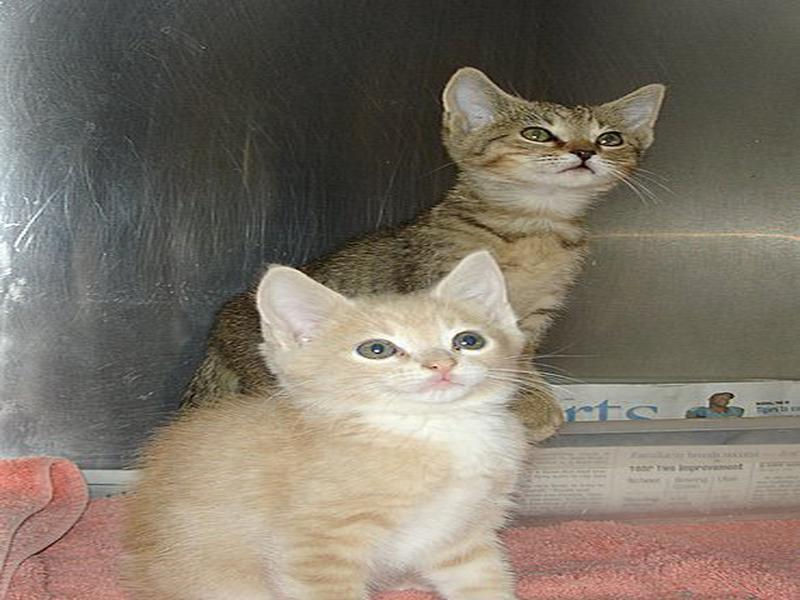cat: (119, 49, 704, 591)
